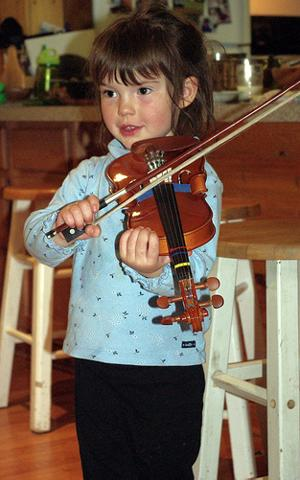person: (24, 12, 225, 480)
